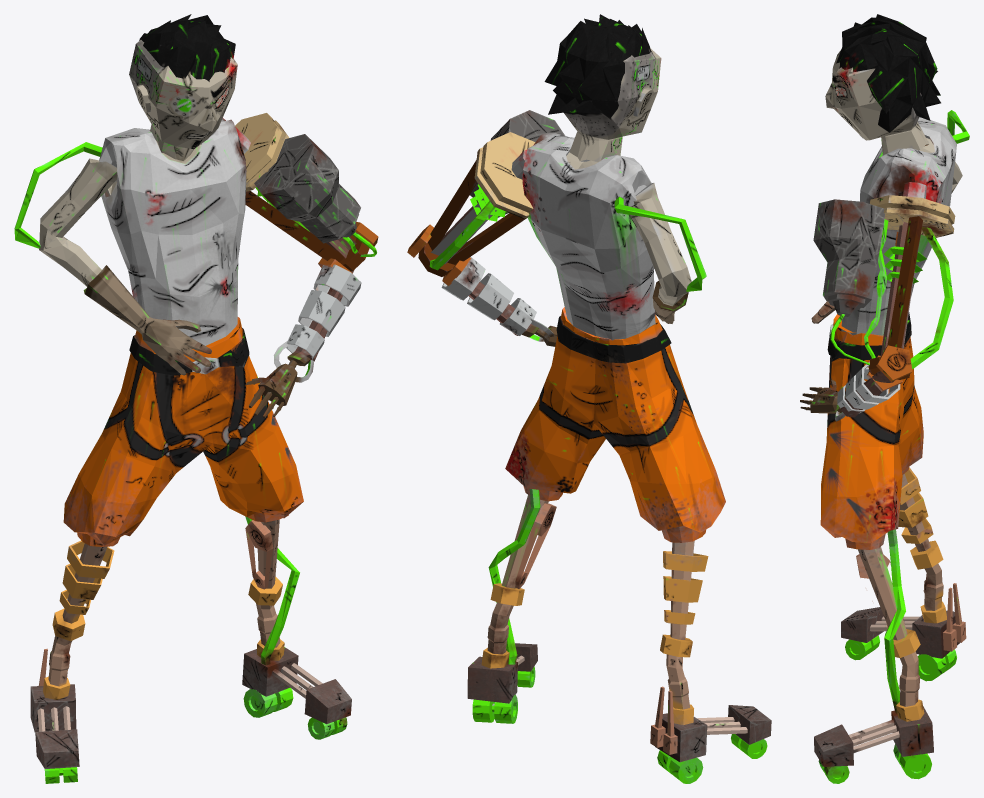
Rendered from CyborgFINALAnimation_000047.obj.
3 renders of one model, left to right at view 1: azimuth 30°, elevation 25°; view 2: azimuth 150°, elevation 25°; view 3: azimuth 270°, elevation 25°, orthographic. The views are drawn at different scales.
Visible parts, largest first — view 1: CyborgMesh_Cube.002; view 2: CyborgMesh_Cube.002; view 3: CyborgMesh_Cube.002.
Boxes of the visible parts, x1,y1,x2,y2 form: CyborgMesh_Cube.002: [14, 14, 378, 783]; CyborgMesh_Cube.002: [407, 14, 771, 783]; CyborgMesh_Cube.002: [800, 14, 969, 783].
Size of the model in its own units: 4.84 by 9.59 by 2.09.
